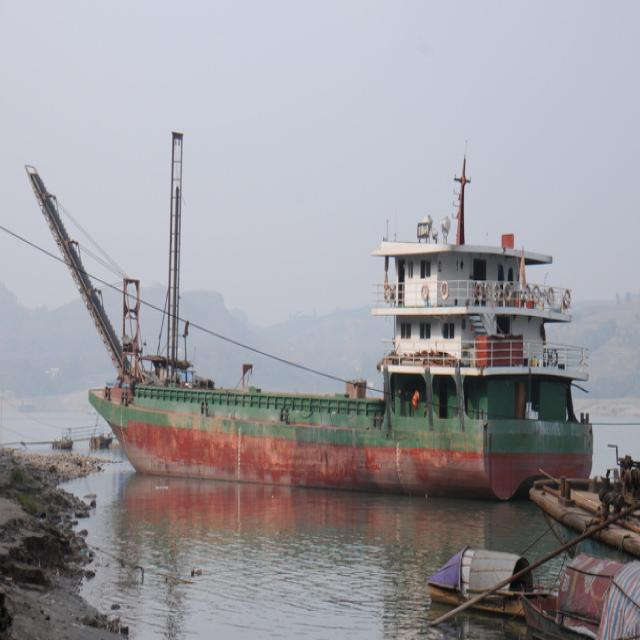fishing boat: (38, 131, 587, 499)
